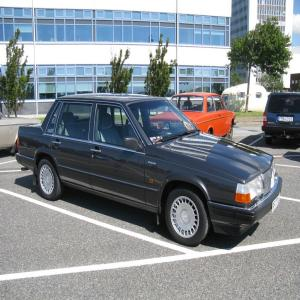Vehicle-registration-plate: (273, 194, 282, 215), (278, 115, 294, 123)
